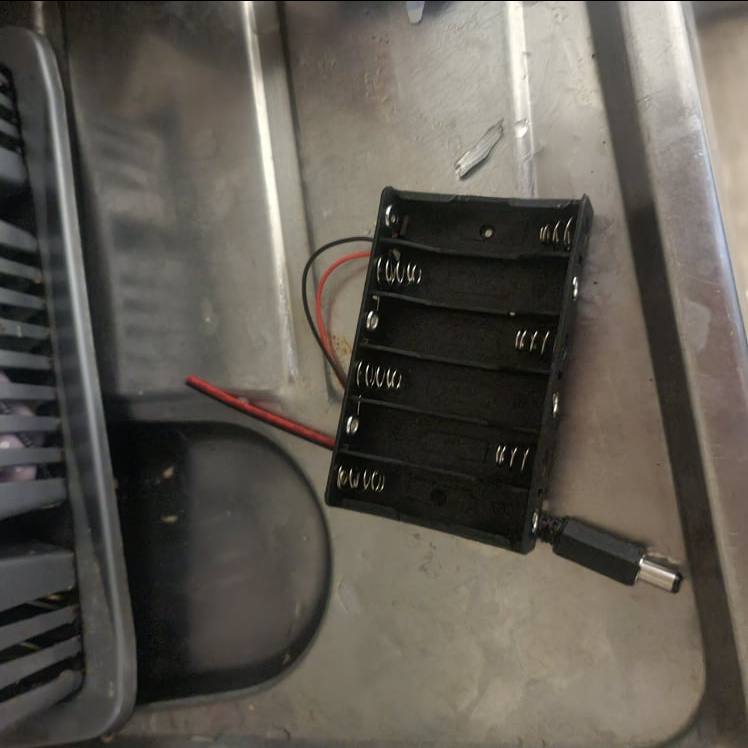BATTERY BOX: (323, 183, 593, 548)
